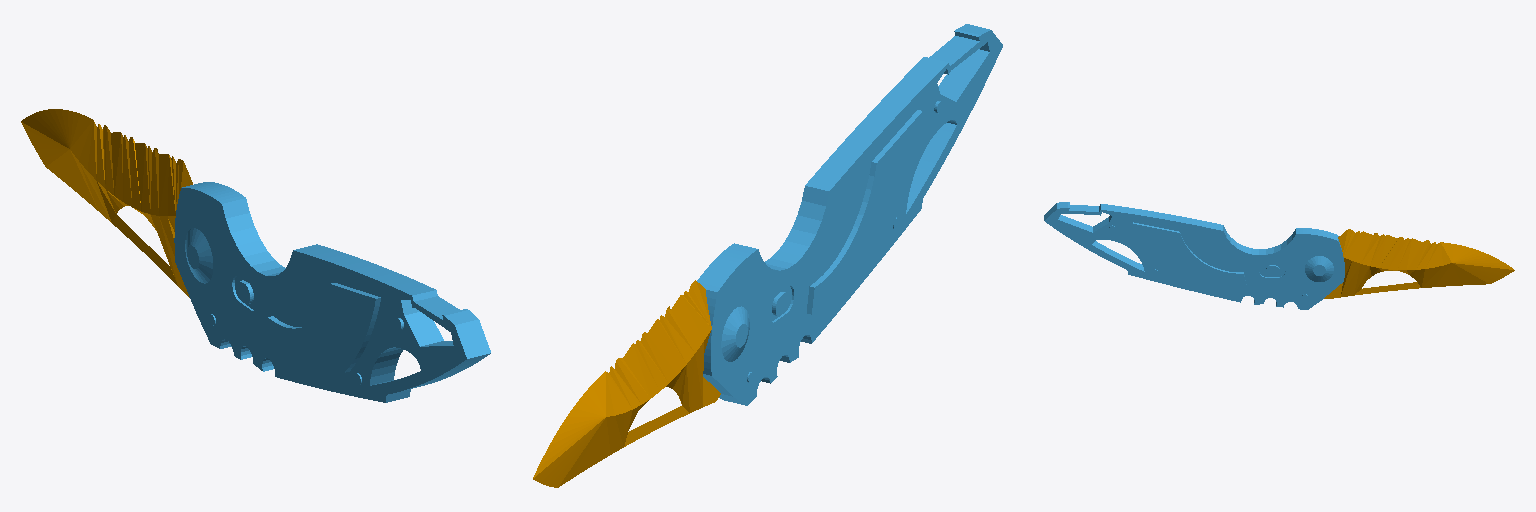
robot.urdf — folding_knife:
<?xml version="1.0" ?>
<robot name="folding_knife">

  <link name="Blade">
    <inertial>
      <origin xyz="0 0 0" rpy="0 0 0"/>
      <mass value="1.000000"/>
      <inertia ixx="1.0" ixy="0.0" ixz="0.0" iyy="1.0" iyz="0.0" izz="1.0"/>
    </inertial>
    <visual>
      <origin xyz="0.000000 0.000000 0.000000" rpy="0 0 0"/>
      <geometry><mesh filename="./obj/0_tex.obj"/></geometry>
    </visual>
    <collision>
      <origin xyz="0.000000 0.000000 0.000000" rpy="0 0 0"/>
      <geometry><mesh filename="./obj/0_tex.obj"/></geometry>
    </collision>
  </link>

  <link name="Handle">
    <inertial>
      <origin xyz="0 0 0" rpy="0 0 0"/>
      <mass value="1.000000"/>
      <inertia ixx="1.0" ixy="0.0" ixz="0.0" iyy="1.0" iyz="0.0" izz="1.0"/>
    </inertial>
    <visual>
      <origin xyz="0.000000 0.000000 0.000000" rpy="0 0 0"/>
      <geometry><mesh filename="./obj/1_tex.obj"/></geometry>
    </visual>
    <collision>
      <origin xyz="0.000000 0.000000 0.000000" rpy="0 0 0"/>
      <geometry><mesh filename="./obj/1_tex.obj"/></geometry>
    </collision>
  </link>

  <joint name="fixed_Handle_Blade" type="fixed">
    <parent link="Handle"/>
    <child  link="Blade"/>
    <origin xyz="0 0 0" rpy="0 0 0"/>
  </joint>
</robot>

--- Facts derived from the render (not from the file) ---
3 views of the same robot in one strip: view 1: azimuth 30°, elevation 25°; view 2: azimuth 150°, elevation 25°; view 3: azimuth 270°, elevation 25° (orthographic).
Model folding_knife with 2 links and 1 joints (1 fixed), rooted at Handle, posed all joints at 0.
Visible links, largest first — view 1: Handle, Blade; view 2: Handle, Blade; view 3: Handle, Blade.
Link boxes in pixels (x1,y1,x2,y2): Handle: (174, 182, 490, 402); Blade: (21, 109, 192, 297); Handle: (697, 24, 1002, 405); Blade: (533, 280, 720, 487); Handle: (1044, 202, 1344, 309); Blade: (1324, 229, 1514, 298).
Bounding box of the posed robot: 0.0882 × 1.92 × 0.4611 m (x, y, z).
Meshes: 2 distinct files referenced, 2 mesh visuals loaded (2 OBJ).